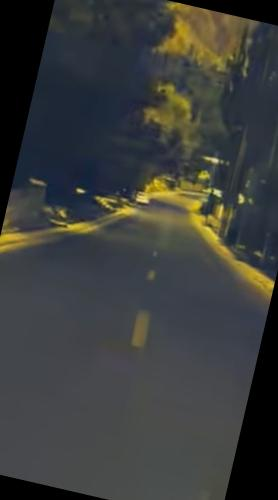sharp_turn: (19, 138, 257, 500)
